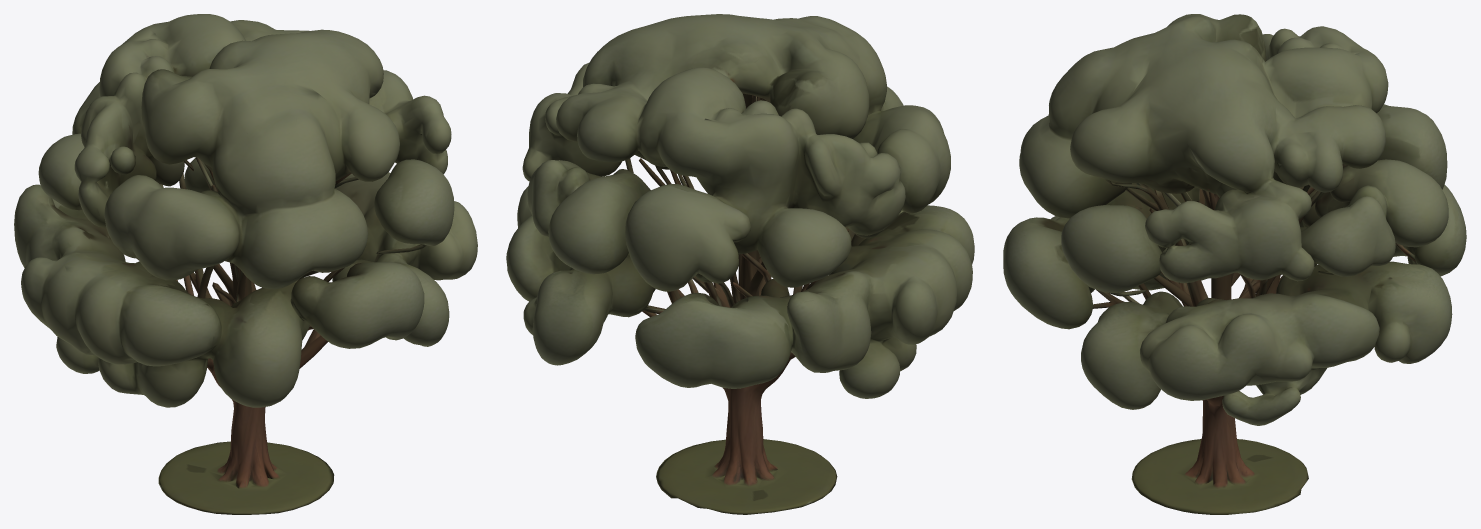
File: tree-a.glb
3 renders of one model, left to right at view 1: azimuth 30°, elevation 25°; view 2: azimuth 150°, elevation 25°; view 3: azimuth 270°, elevation 25°, orthographic. The views are drawn at different scales.
Parts seen in each view (by area): view 1: node_0; view 2: node_0; view 3: node_0.
Boxes of the visible parts, left/top/right/bottom form: node_0: left=14, top=14, right=477, bottom=514; node_0: left=506, top=14, right=974, bottom=514; node_0: left=1003, top=14, right=1466, bottom=514.
Size of the model in its own units: 1.1 by 1.1 by 1.05.
Materials: 1 (1 with a texture image).
